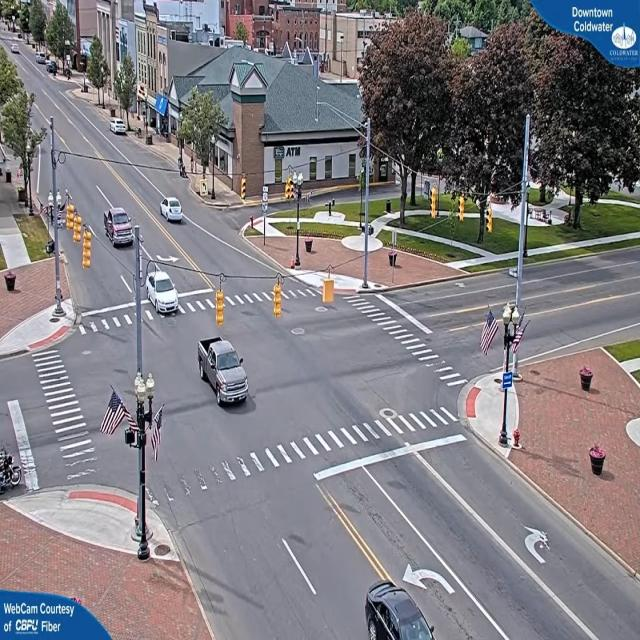car: (363, 581, 452, 638), (198, 339, 251, 407), (142, 266, 178, 316), (104, 209, 138, 249), (160, 196, 184, 224), (110, 119, 128, 136)
